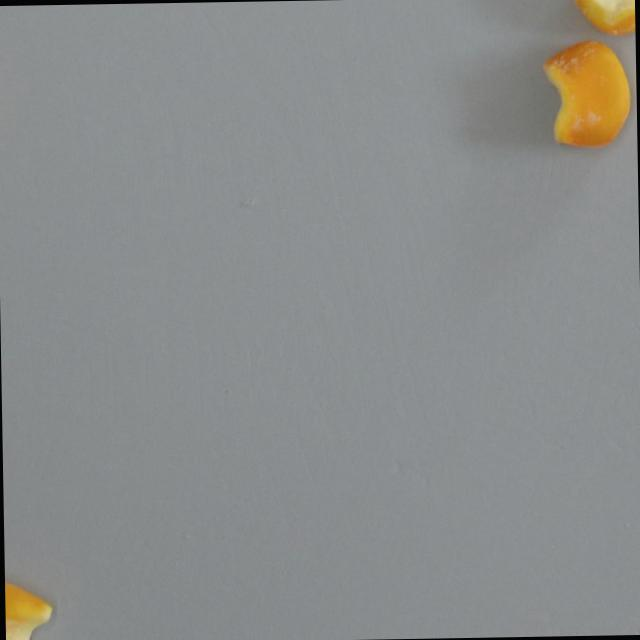no_canjicado: (4, 578, 51, 640)
pelicula: (541, 38, 632, 147), (571, 0, 635, 36)
